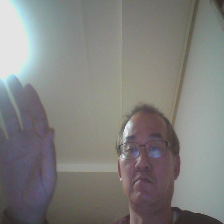hand: (1, 77, 59, 223)
